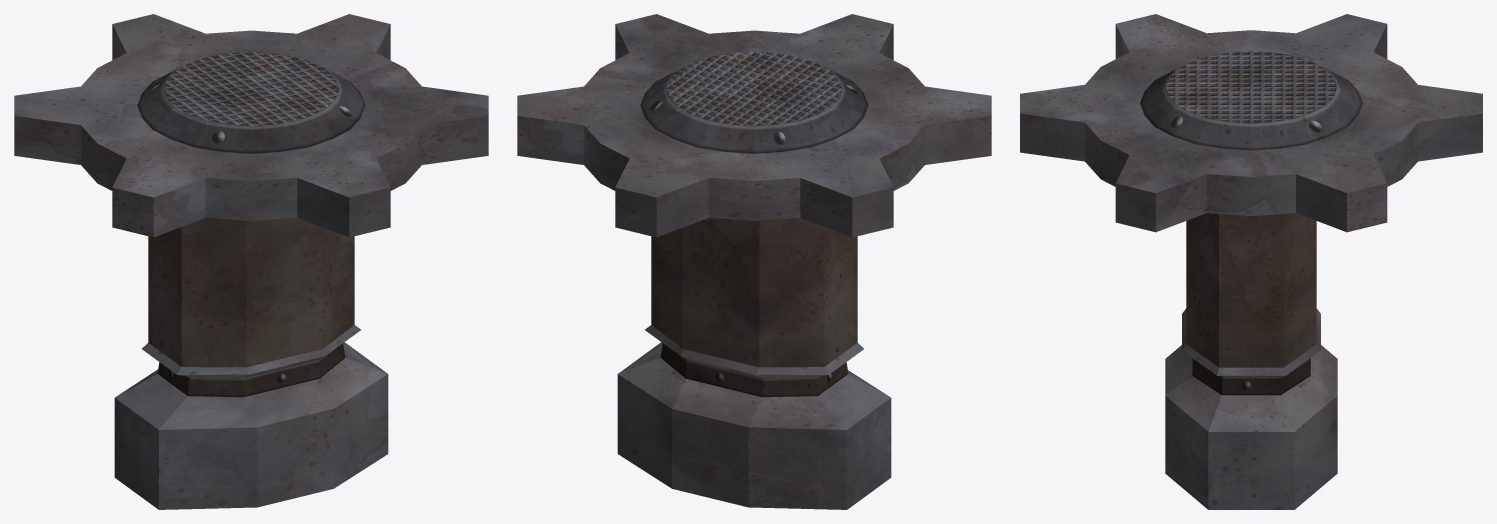
The model's file is Cog_Pedestal.fbx.
3 views of the same model, side by side, from view 1: azimuth 30°, elevation 25°; view 2: azimuth 150°, elevation 25°; view 3: azimuth 270°, elevation 25° (orthographic). The views are drawn at different scales.
Parts seen in each view (by area): view 1: Cog_Pedestal; view 2: Cog_Pedestal; view 3: Cog_Pedestal.
Part boxes in pixels (x1,y1,x2,y2): Cog_Pedestal: [14, 14, 488, 509]; Cog_Pedestal: [517, 14, 991, 509]; Cog_Pedestal: [1020, 14, 1482, 509].
Size of the model in its own units: 9.84 by 9.42 by 10.74.
